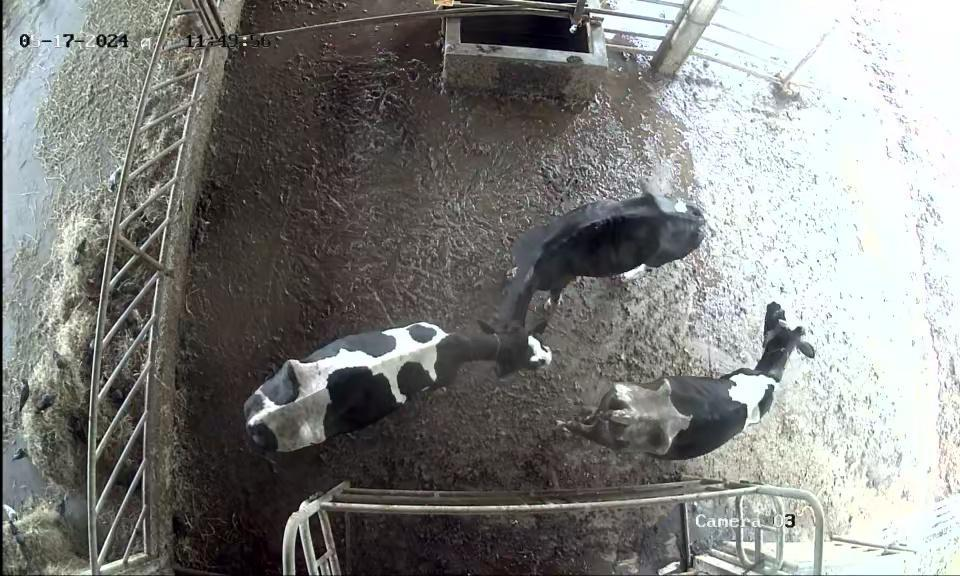stand: (230, 314, 566, 464), (554, 292, 827, 472), (474, 173, 723, 338)
